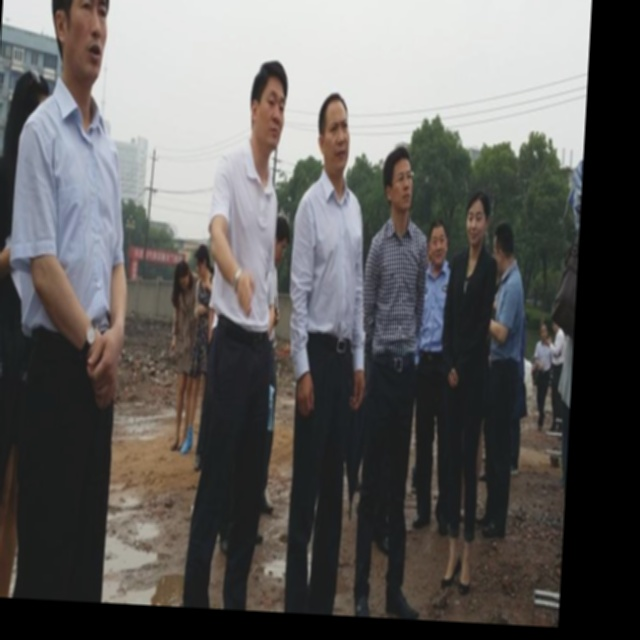Sin_Casco_Mascarrilla: (248, 55, 292, 154), (315, 91, 355, 178)
Sin_Chaleco: (8, 85, 129, 329), (360, 215, 430, 357)
